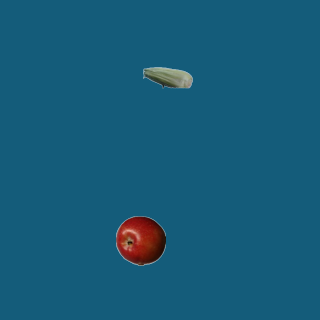Apple Braeburn: (115, 215, 165, 265)
Corn Husk: (142, 52, 192, 102)
